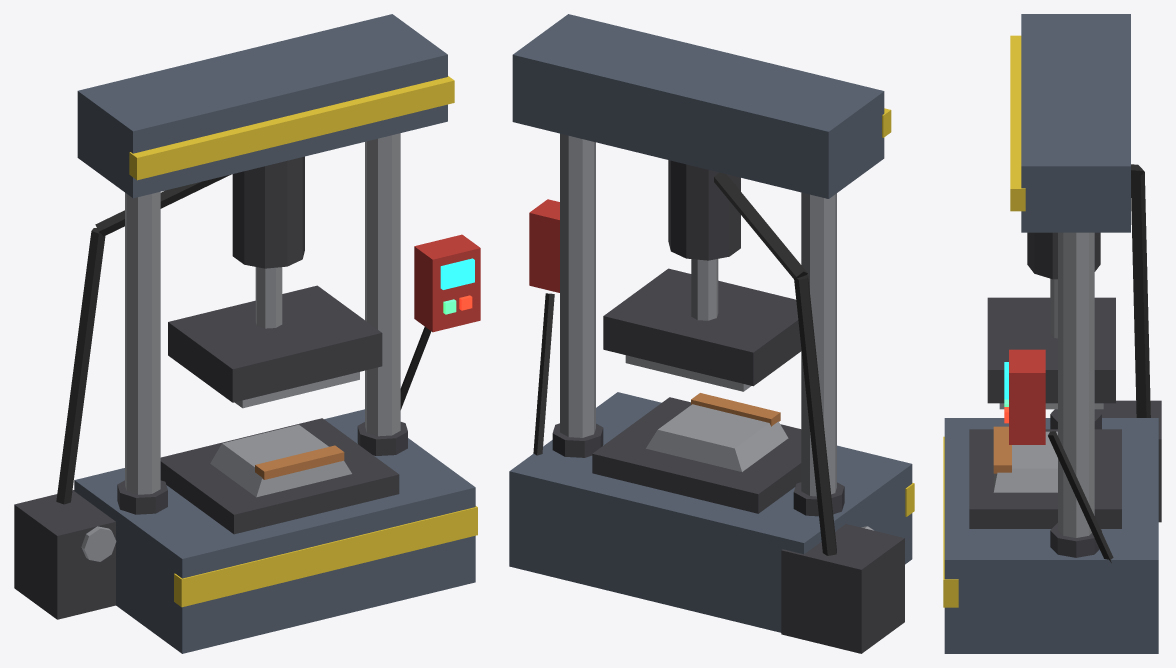
File: metal_press.glb
The picture shows the model from 3 angles, left to right: view 1: azimuth 30°, elevation 25°; view 2: azimuth 150°, elevation 25°; view 3: azimuth 270°, elevation 25°; orthographic projection.
Visible parts, largest first — view 1: PROP_MetalPress_Mesh; view 2: PROP_MetalPress_Mesh; view 3: PROP_MetalPress_Mesh.
Boxes of the visible parts, x1,y1,x2,y2 form: PROP_MetalPress_Mesh: (14, 14, 480, 653); PROP_MetalPress_Mesh: (509, 14, 914, 653); PROP_MetalPress_Mesh: (943, 14, 1161, 653).
Bounding box in the file's own units: 1.46 × 1.78 × 0.715.
